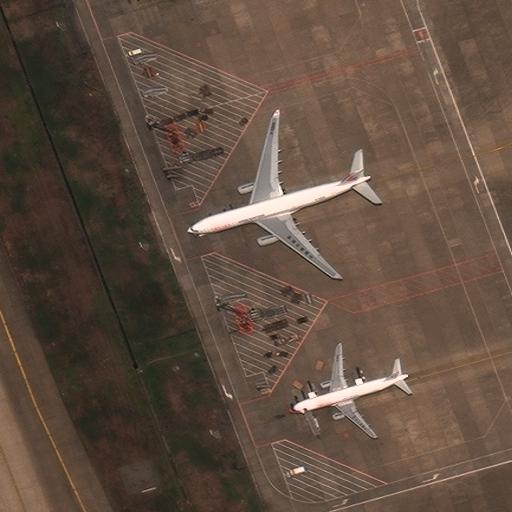Large Civil Transport: (187, 115, 370, 279)
Medium Civil Transport: (289, 345, 408, 439)
